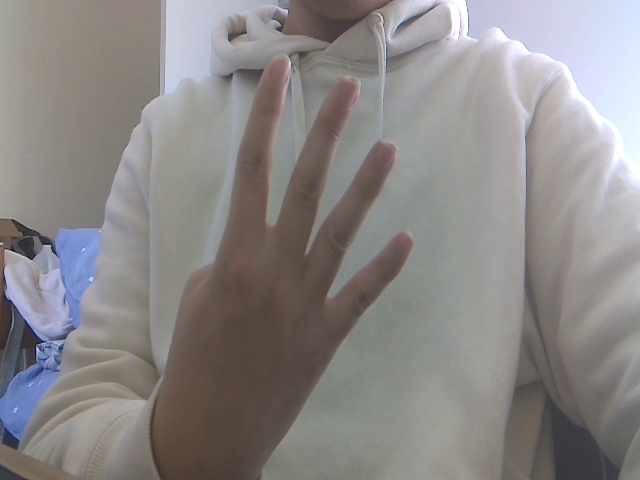hand_gesture_4: (141, 33, 440, 480)
